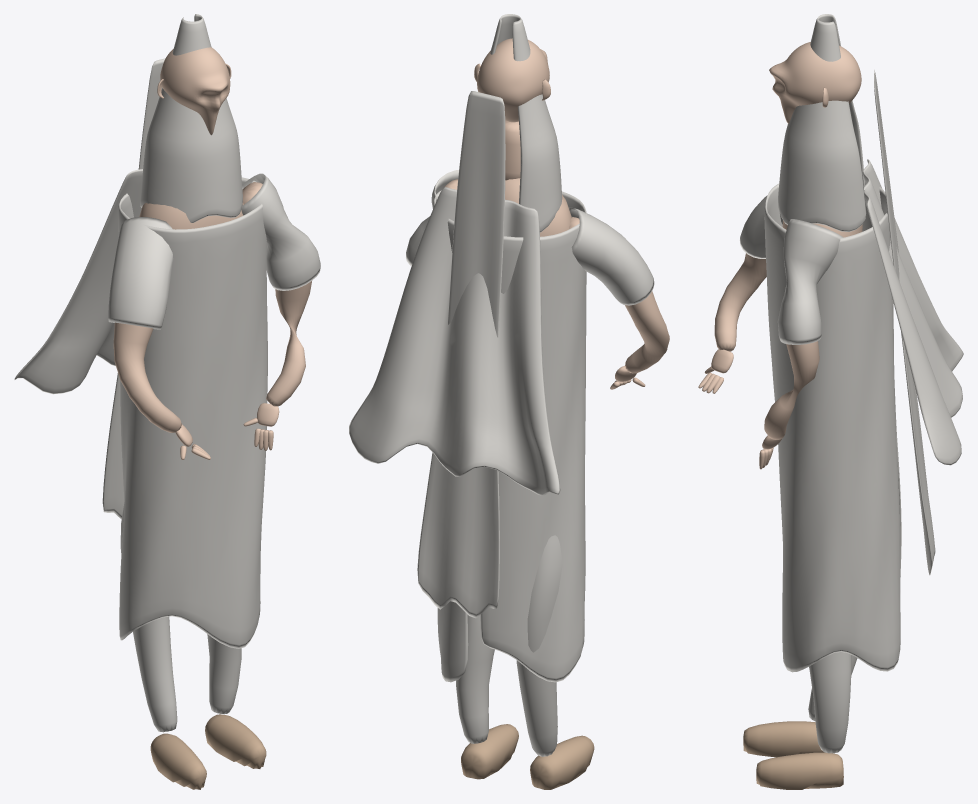
The model's file is observatory_mystic.glb.
3 views of the same model, side by side, from view 1: azimuth 30°, elevation 25°; view 2: azimuth 150°, elevation 25°; view 3: azimuth 270°, elevation 25° (orthographic). The views are drawn at different scales.
Visible parts, largest first — view 1: Robe, Hood, Cape, SleeveR, SleeveL, Head, LegR, ArmR, Veil, ArmL, BootL, BootR (+2 smaller); view 2: Cape, Robe, Veil, Hood, LegR, SleeveR, Head, LegL, BootR, ArmR, BootL, Body (+2 smaller); view 3: Robe, Hood, Cape, SleeveL, Head, LegL, Veil, BootL, BootR, ArmR, ArmL, SleeveR.
Boxes of the visible parts, x1,y1,x2,y2 form: Robe: (118,177,267,648); Hood: (140,14,242,222); Cape: (14,169,142,394); SleeveR: (108,217,173,329); SleeveL: (241,173,320,290); Head: (160,47,230,135); LegR: (120,502,177,732); ArmR: (113,322,181,432); Veil: (102,58,165,519); ArmL: (242,182,311,406); BootL: (205,714,266,768); BootR: (150,733,206,789); Cape: (349,187,560,495); Robe: (433,190,586,682); Veil: (417,91,505,618); Hood: (490,14,562,232); LegR: (516,535,562,756); SleeveR: (568,207,654,305); Head: (477,38,549,122); LegL: (456,615,494,743); BootR: (530,735,594,789); ArmR: (569,217,669,373); BootL: (461,724,518,779); Body: (505,178,571,236); Robe: (764,182,901,672); Hood: (778,14,866,231); Cape: (863,159,963,465); SleeveL: (777,219,843,344); Head: (769,42,861,123); LegL: (809,652,851,753); Veil: (874,70,935,575); BootL: (756,752,843,789); BootR: (743,721,824,757); ArmR: (714,253,766,351); ArmL: (764,341,819,439); SleeveR: (739,195,782,258).
Size of the model in its own units: 0.6351 by 1.98 by 0.6347.
